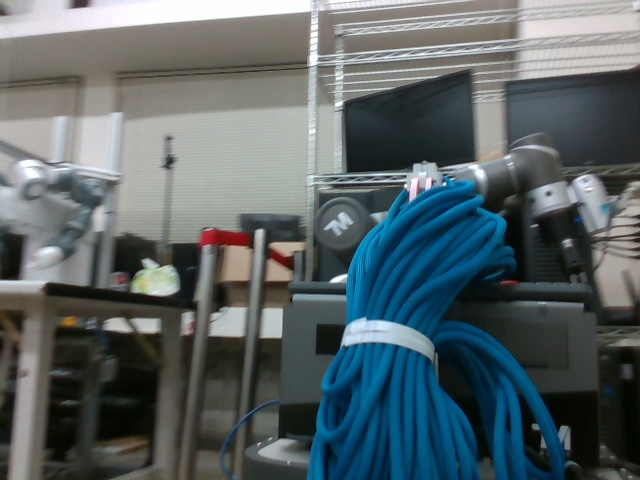rope: (303, 173, 568, 480)
